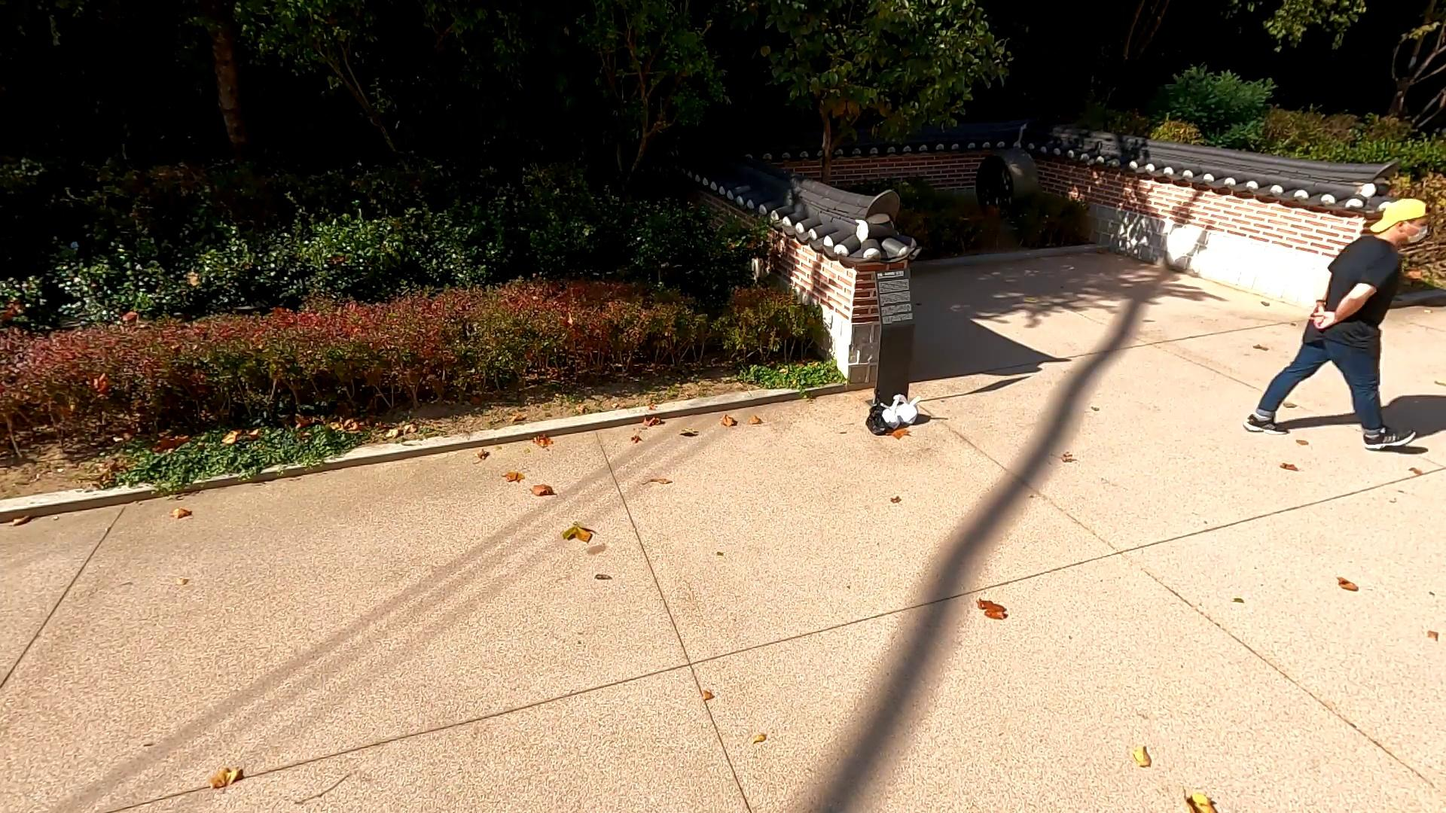person: (1232, 186, 1441, 477)
trash: (868, 394, 894, 437), (895, 393, 925, 430), (882, 396, 906, 430)
